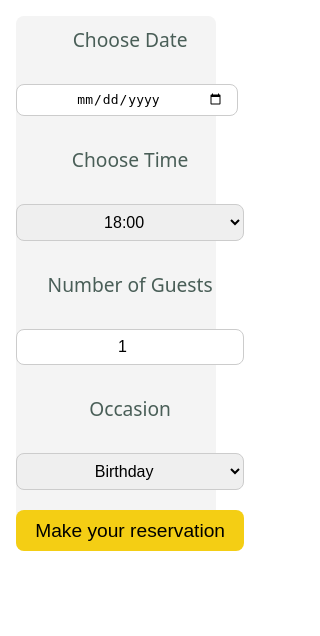
it: BookingForm › submits the form with correct values
Type "2023-10-01" into the date field labelled "Choose Date" at (127, 100), box [16, 84, 238, 116]
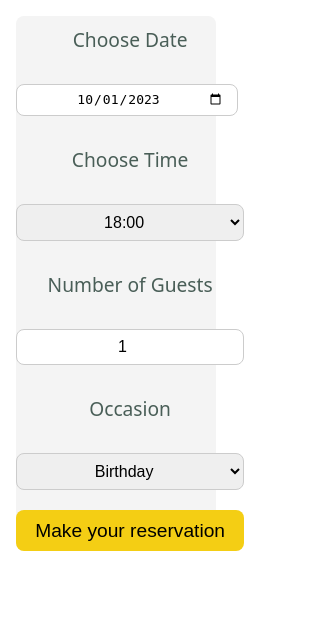
Select "19:00" in the dropdown labelled "Choose Time" at (130, 222), box [16, 204, 244, 241]
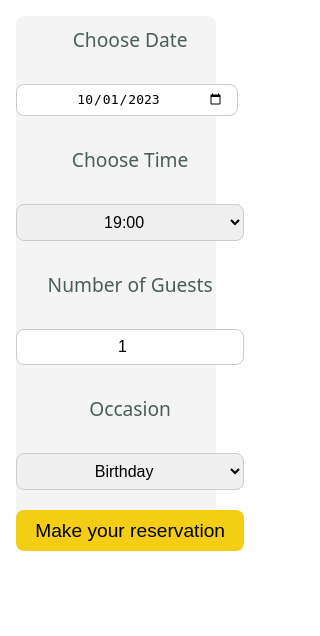
Type "4" into the number field labelled "Number of Guests" at (130, 347), box [16, 329, 244, 365]
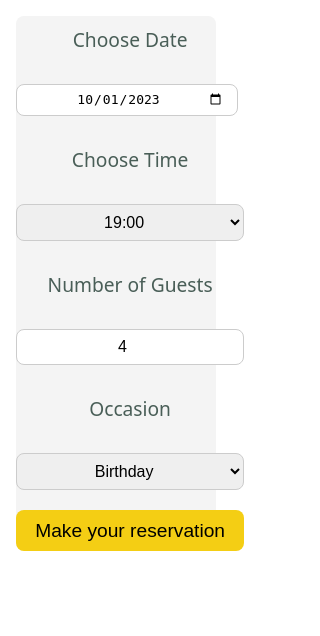
Select "Birthday" in the dropdown labelled "Occasion" at (130, 471), box [16, 453, 244, 490]
Click the button "Make your reservation" at (130, 530), box [16, 510, 244, 551]
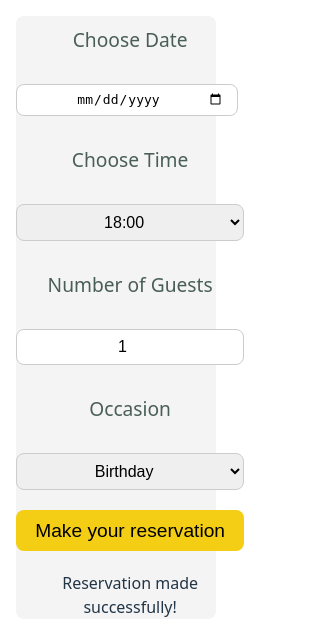
Check: the text "Reservation made successfully!" is shown, box [62, 572, 198, 618]
